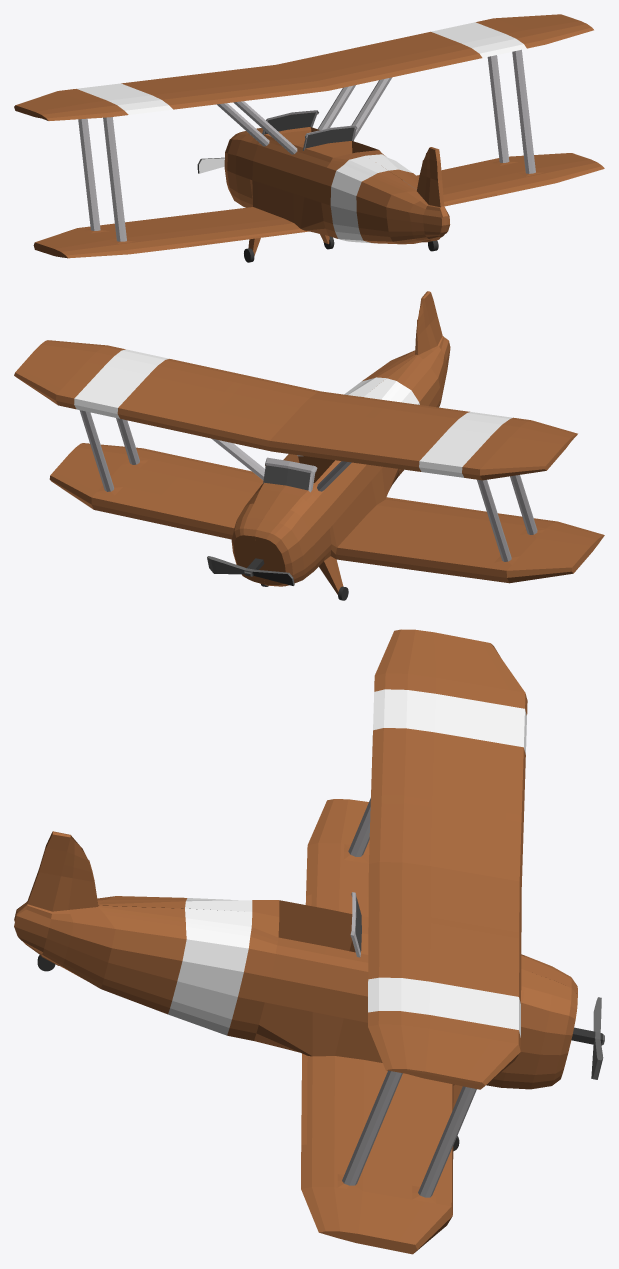
File: Gleiter.fbx
3 views of the same model, one above another, from view 1: azimuth 30°, elevation 25°; view 2: azimuth 150°, elevation 25°; view 3: azimuth 270°, elevation 25° (orthographic). The views are drawn at different scales.
Visible parts, largest first — view 1: Flieger; view 2: Flieger; view 3: Flieger.
Part boxes in pixels (left/top/right/bottom): Flieger: left=14, top=14, right=604, bottom=262; Flieger: left=14, top=291, right=604, bottom=600; Flieger: left=14, top=629, right=604, bottom=1254.
Bounding box in the file's own units: 1142 × 429 × 739.
